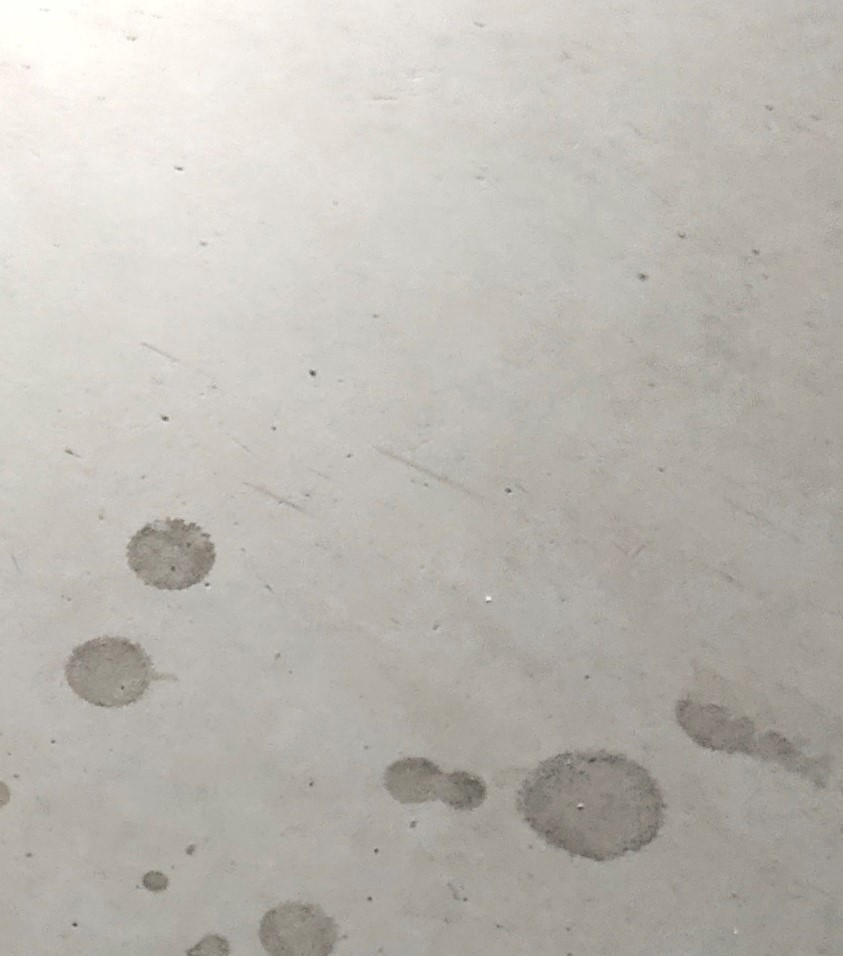grey spot: (515, 743, 665, 859), (674, 699, 839, 790), (65, 636, 180, 705), (124, 516, 218, 592), (383, 757, 488, 813), (258, 902, 337, 956), (183, 933, 229, 956), (140, 871, 169, 892)
